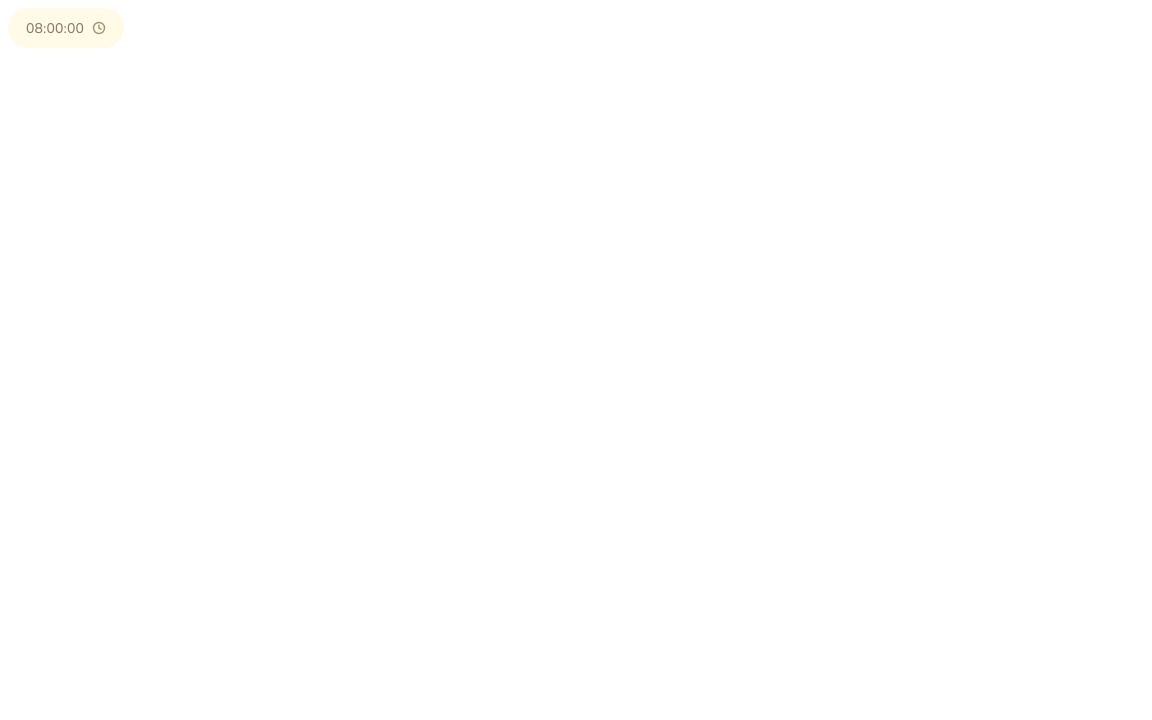
Test: TimePicker › 展开与选择 › 值未变化时确定仅关闭面板不回调
Click the dropdown at [66, 28], box [8,8,124,48]
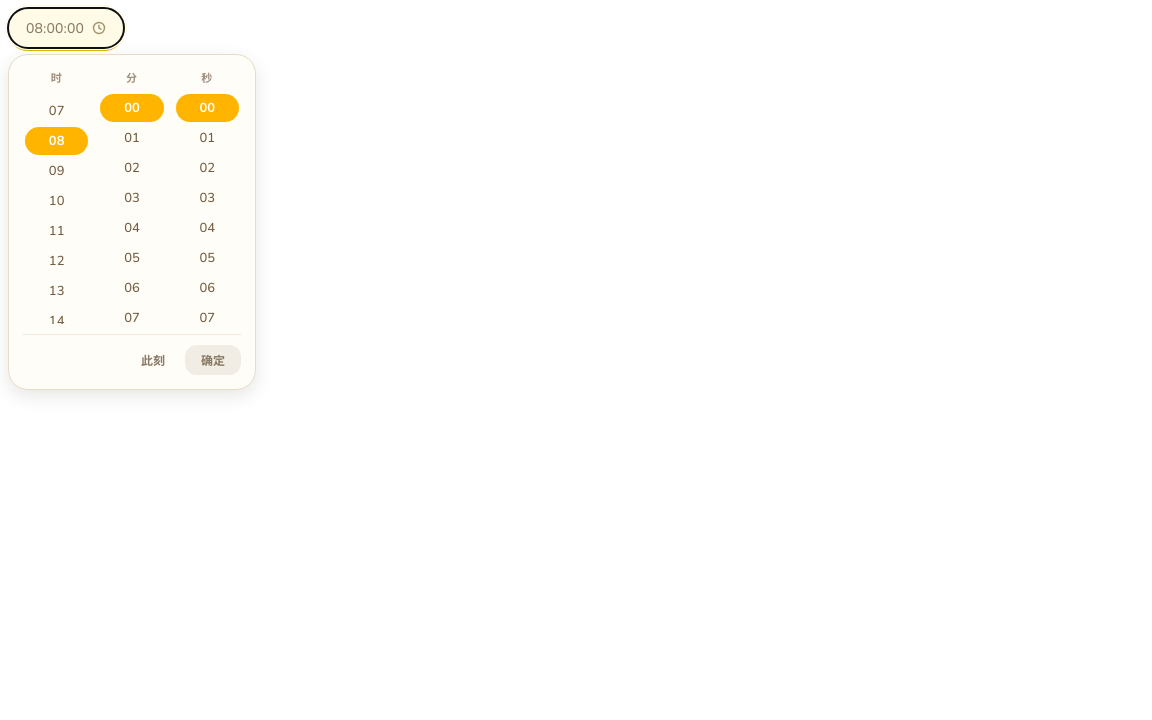
Click the button "确定" at [213, 360], box [185,345,241,375]
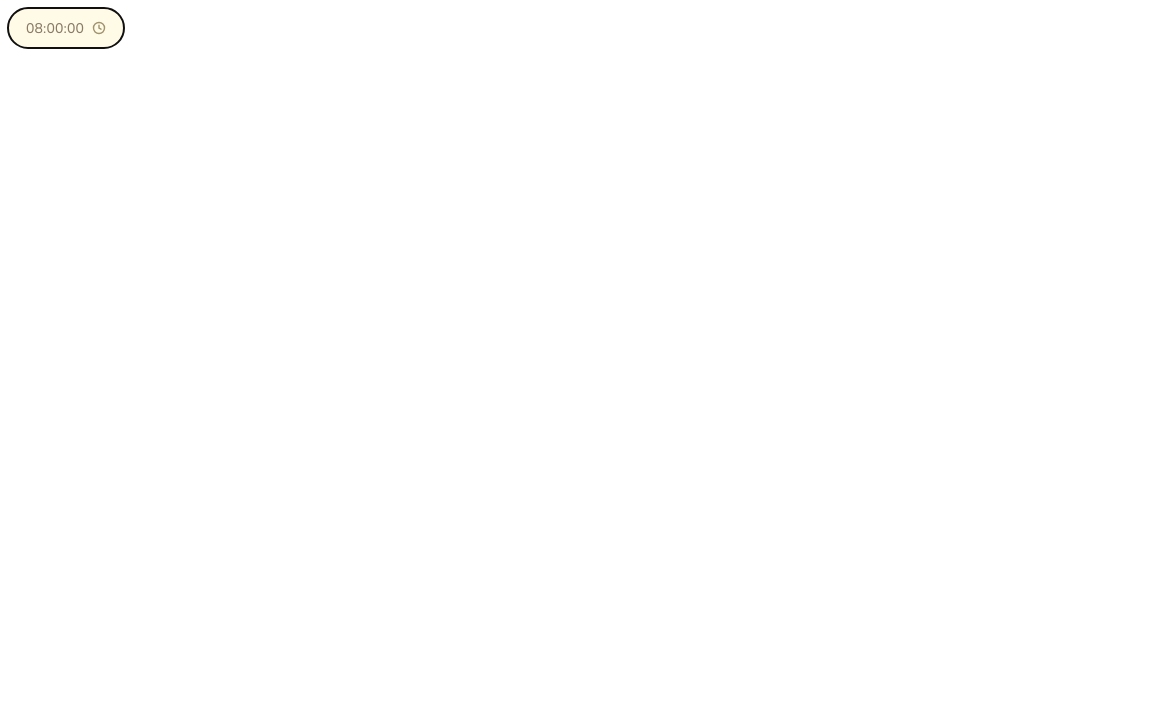
Expected: the dialog is gone
